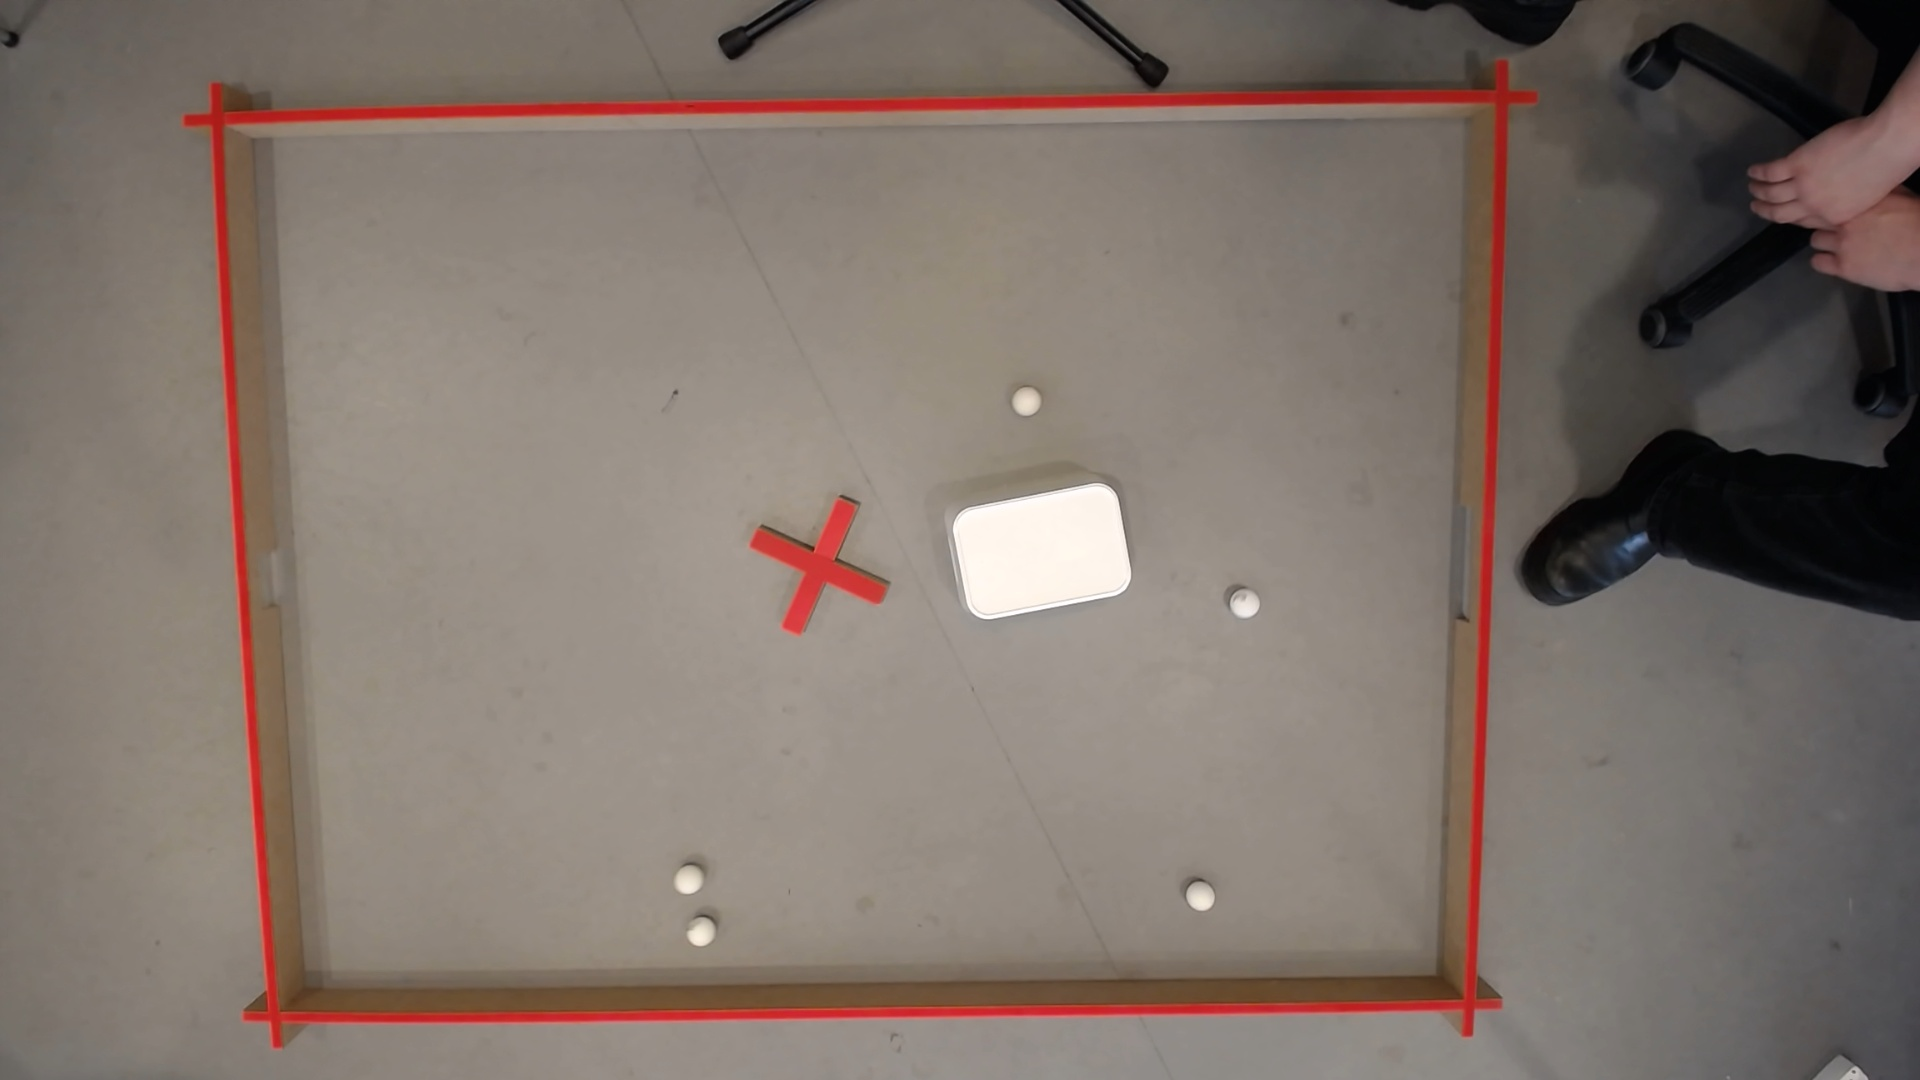balls: (947, 477, 1135, 622), (1228, 589, 1262, 622), (1183, 881, 1216, 914), (670, 866, 704, 898), (684, 919, 716, 949)
car: (1010, 386, 1042, 418)
